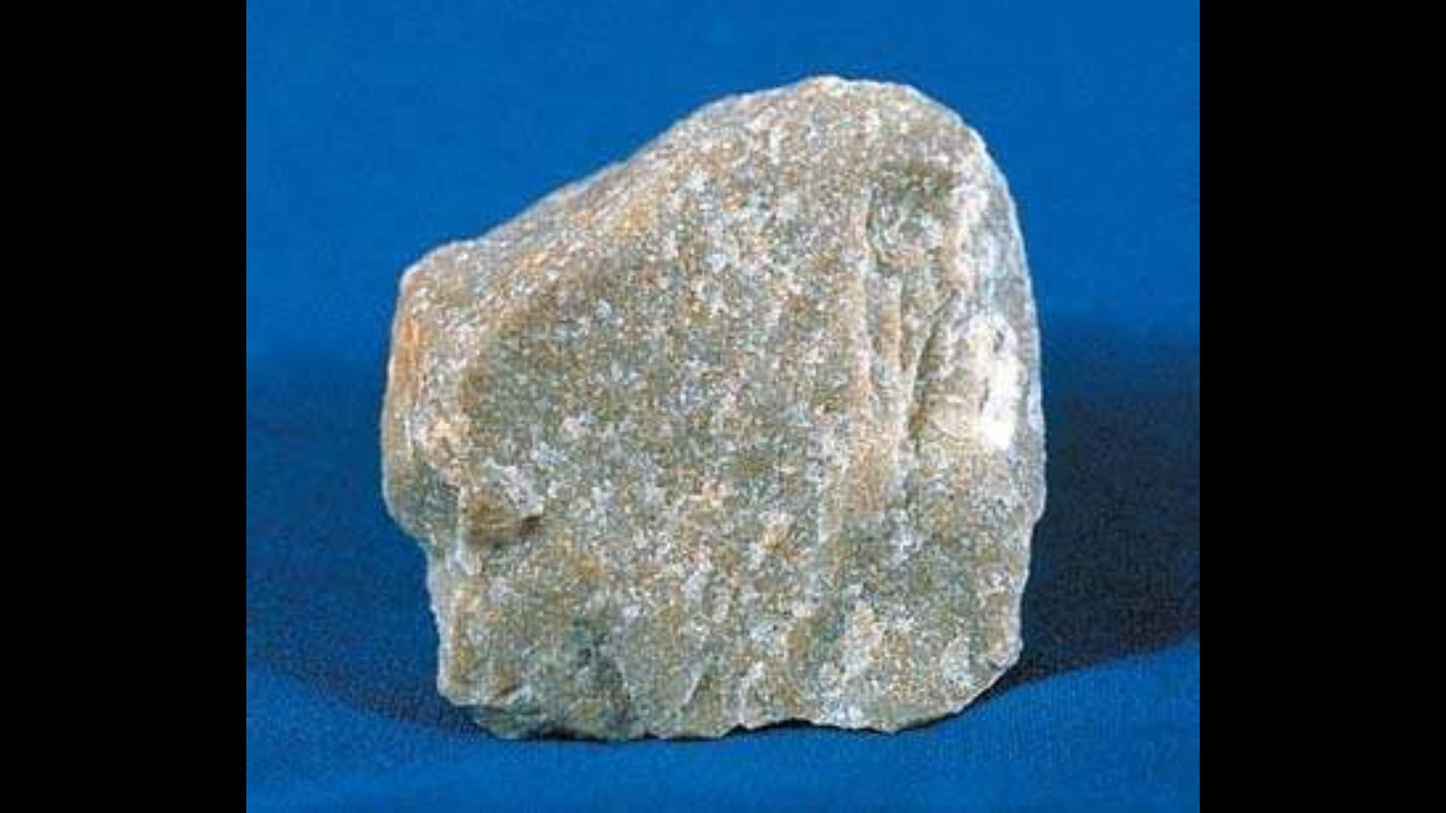rock: (384, 77, 1041, 734)
